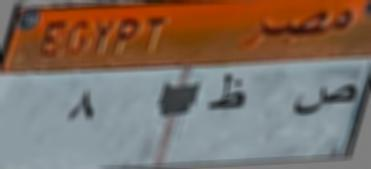8: (62, 84, 98, 132)
Thaa: (206, 66, 248, 118)
saad: (287, 80, 358, 123)
